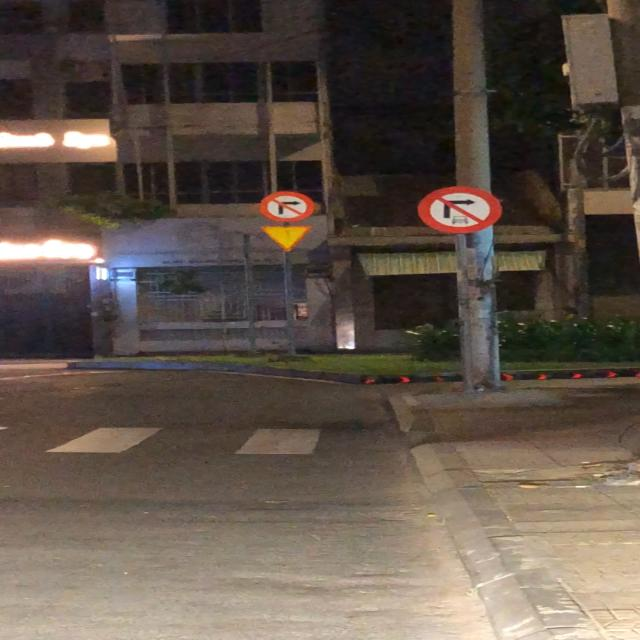Bien bao cam re phai: (257, 188, 318, 223)
Bien bao cam xe o to re phai: (418, 184, 506, 236)
Bien bao giao nhau voi duong uu tien: (257, 223, 318, 253)
